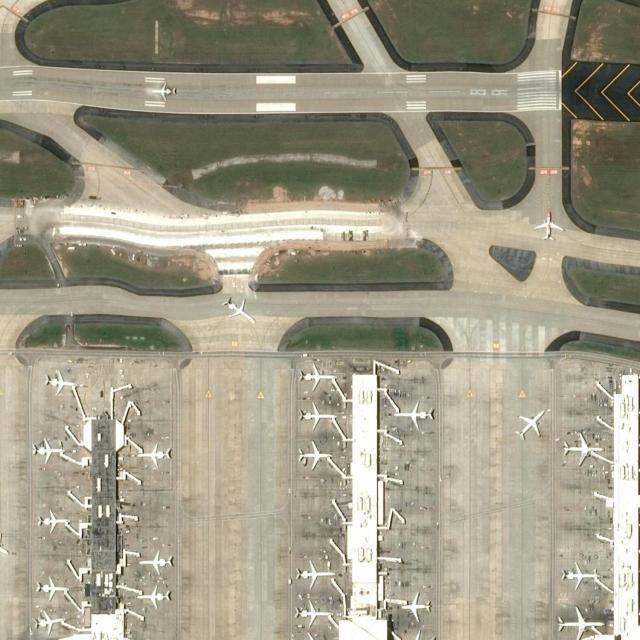Aircraft: (557, 604, 605, 640), (563, 428, 605, 466), (298, 400, 340, 430), (394, 400, 435, 429), (296, 559, 338, 587), (561, 560, 600, 590), (514, 407, 548, 441), (299, 363, 338, 391), (297, 598, 335, 626), (223, 295, 258, 325), (300, 440, 335, 470), (402, 591, 434, 621), (33, 575, 71, 600), (138, 442, 174, 468), (33, 436, 67, 463), (534, 212, 565, 240), (46, 368, 78, 395), (39, 507, 71, 534), (138, 550, 174, 574), (135, 585, 173, 607), (34, 610, 68, 633), (152, 81, 176, 101), (397, 630, 434, 640), (295, 631, 333, 640)
